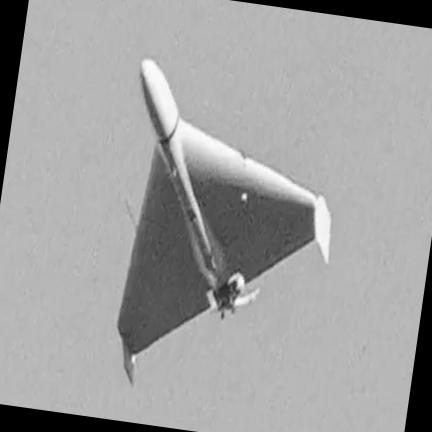Shahed: (117, 57, 332, 383)
